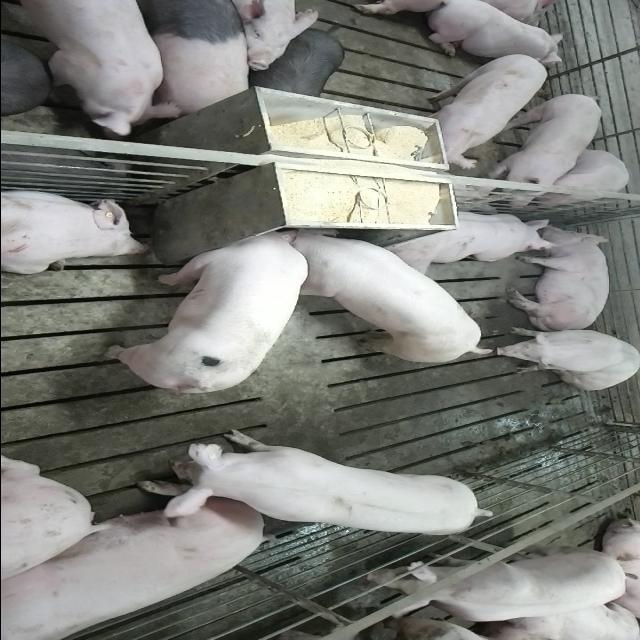Feeding: (101, 220, 307, 392), (280, 229, 488, 365)
Lateral_lying: (502, 222, 612, 332)
Sitting: (493, 327, 640, 390)
Standing: (147, 432, 493, 540), (344, 536, 632, 632), (0, 2, 184, 141), (405, 51, 548, 168), (132, 3, 252, 121), (484, 93, 605, 207), (0, 32, 52, 116)
Sternal_lying: (0, 187, 149, 275), (377, 208, 555, 272), (419, 2, 567, 60)
